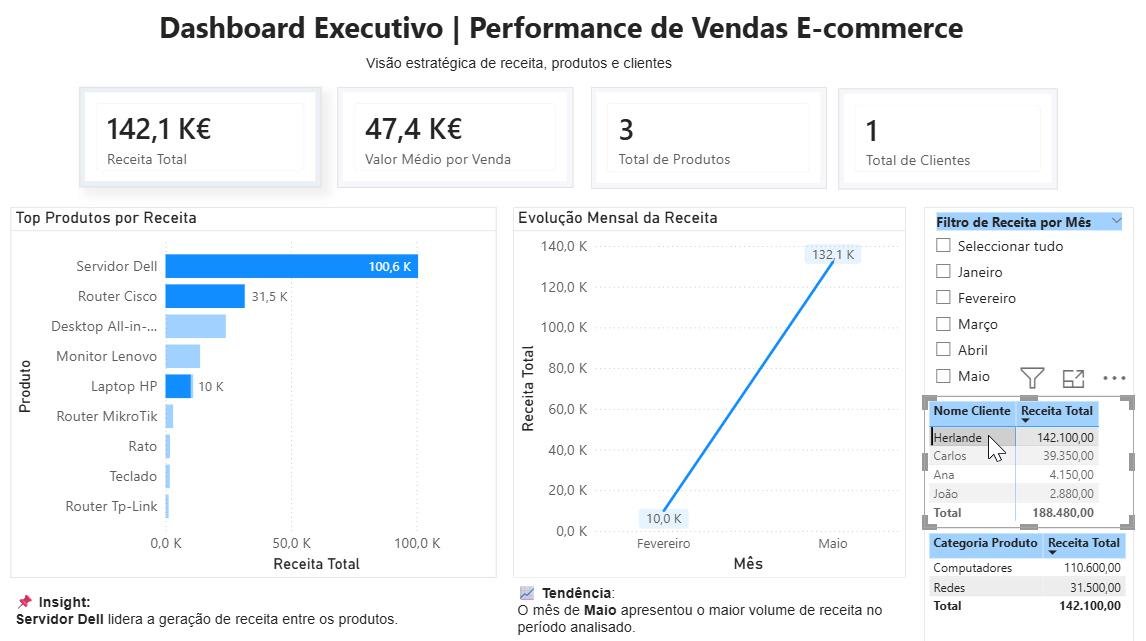

This screenshot's page, from the dashboard's own definition file:
{"tool":"powerbi","page":{"name":"dashboard_ecommerce","canvas":[1280,720],"ordinal":0},"visuals":[{"type":"lineChart","title":"Evolução Mensal da Receita","fields":{"Y":["Vendas .Receita Total"],"Category":["Data Venda.Mês"]},"box":[573.3,233.3,436.7,411.7],"z":0},{"type":"pivotTable","fields":{"Rows":["Clientes.Nome Cliente"],"Values":["Vendas .Receita Total"]},"box":[1030,443,233.3,146.7],"z":1000},{"type":"clusteredBarChart","title":"Top Produtos por Receita","fields":{"Category":["dim_produtos.nome"],"Y":["fato_vendas.Receita Total"]},"box":[15,233.3,540,411.7],"z":2000},{"type":"textbox","box":[175,5,968.3,53.3],"z":3000},{"type":"textbox","box":[405,58.3,470,38.3],"z":4000},{"type":"cardVisual","fields":{"Data":["fato_vendas.Receita Total"]},"box":[91.7,100,268.3,111],"z":5000},{"type":"textbox","box":[15,655,453.3,51.7],"z":6000},{"type":"slicer","fields":{"Values":["Data Venda.Mês"]},"box":[1030,233.3,233.3,210],"z":7000},{"type":"pivotTable","fields":{"Rows":["Produtos.Categoria Produto"],"Values":["Vendas .Receita Total"]},"box":[1030,590,233.3,128.3],"z":8000},{"type":"cardVisual","fields":{"Data":["Vendas .Ticket Médio"]},"box":[378.3,100,261.7,111.7],"z":9000},{"type":"cardVisual","fields":{"Data":["Vendas .Total Clientes"]},"box":[935,101.7,243.3,111.7],"z":10000},{"type":"cardVisual","fields":{"Data":["Vendas .Total Produtos"]},"box":[660,100,261.7,113.3],"z":11000},{"type":"textbox","box":[573.3,645,436.7,73.3],"z":12000}]}

Visuals, with their boxes in screenshot pixels (x1, y1, x2, y2), scaled from the page's 1280x720 canvas onto the 1146x641 screenshot:
"Evolução Mensal da Receita" lineChart: (513, 208, 904, 574)
pivotTable - Clientes.Nome Cliente x Vendas .Receita Total: (922, 394, 1131, 525)
"Top Produtos por Receita" clusteredBarChart: (13, 208, 497, 574)
textbox: (157, 4, 1024, 52)
textbox: (363, 52, 783, 86)
cardVisual - fato_vendas.Receita Total: (82, 89, 322, 188)
textbox: (13, 583, 419, 629)
slicer - Data Venda.Mês: (922, 208, 1131, 395)
pivotTable - Produtos.Categoria Produto x Vendas .Receita Total: (922, 525, 1131, 639)
cardVisual - Vendas .Ticket Médio: (339, 89, 573, 188)
cardVisual - Vendas .Total Clientes: (837, 91, 1055, 190)
cardVisual - Vendas .Total Produtos: (591, 89, 825, 190)
textbox: (513, 574, 904, 639)
